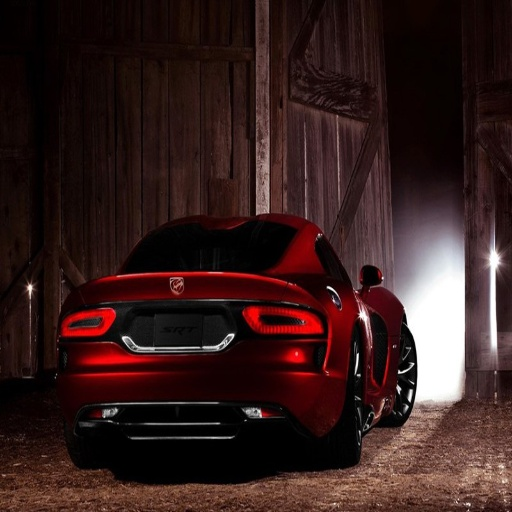back_bumper: (57, 356, 237, 443), (222, 335, 315, 392)
hood: (270, 271, 358, 329)
trunk: (64, 272, 279, 396)
